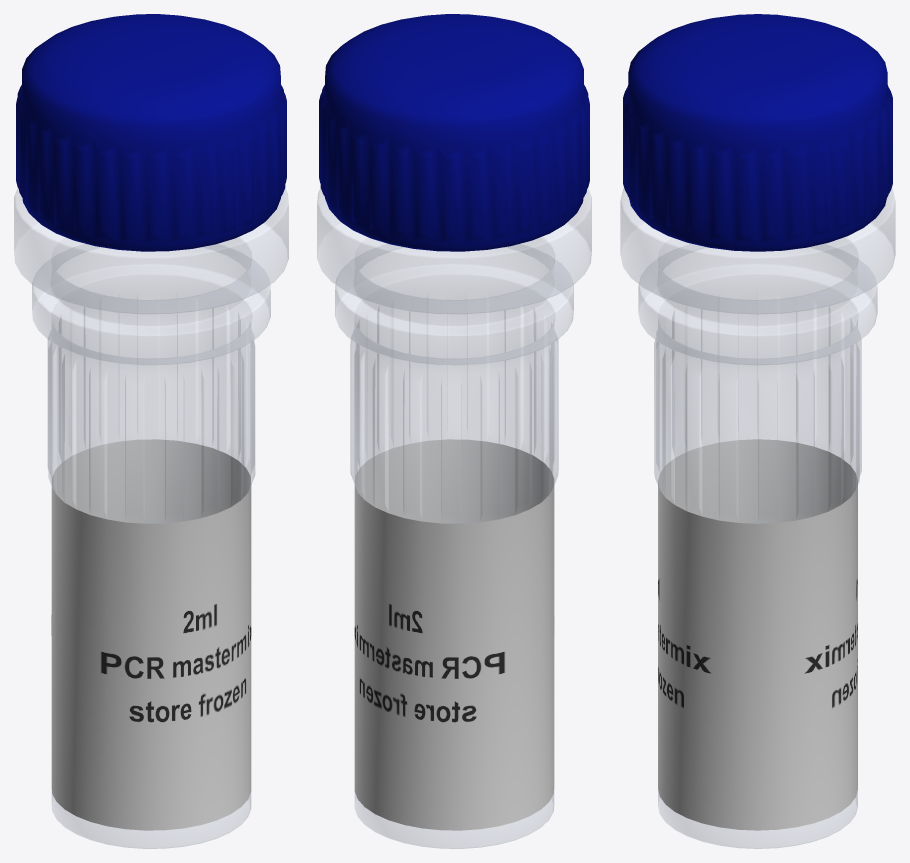
File: A 2ml tube containing a PCR Master Mix.glb
3 views of the same model, side by side, from view 1: azimuth 30°, elevation 25°; view 2: azimuth 150°, elevation 25°; view 3: azimuth 270°, elevation 25° (orthographic).
Visible parts, largest first — view 1: Cylinder, Cylinder.002; view 2: Cylinder, Cylinder.002; view 3: Cylinder, Cylinder.002.
Boxes of the visible parts, x1,y1,x2,y2 form: Cylinder: (14,188,288,848); Cylinder.002: (16,14,286,251); Cylinder: (317,188,591,848); Cylinder.002: (319,14,589,251); Cylinder: (620,188,895,848); Cylinder.002: (623,14,892,251).
Bounding box in the file's own units: 0.2676 × 0.8112 × 0.2676.
3 materials, 1 textured.
